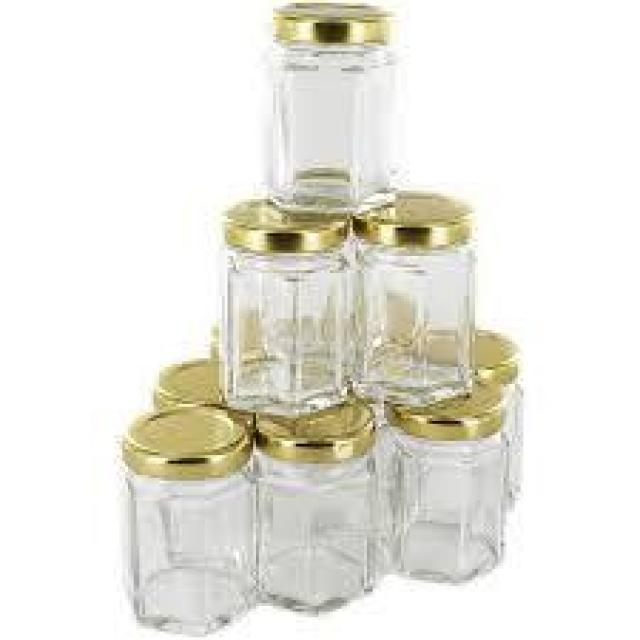Glass: (119, 407, 260, 637), (259, 2, 404, 216), (216, 195, 352, 418), (352, 191, 477, 413), (254, 399, 380, 617), (387, 372, 509, 586)
